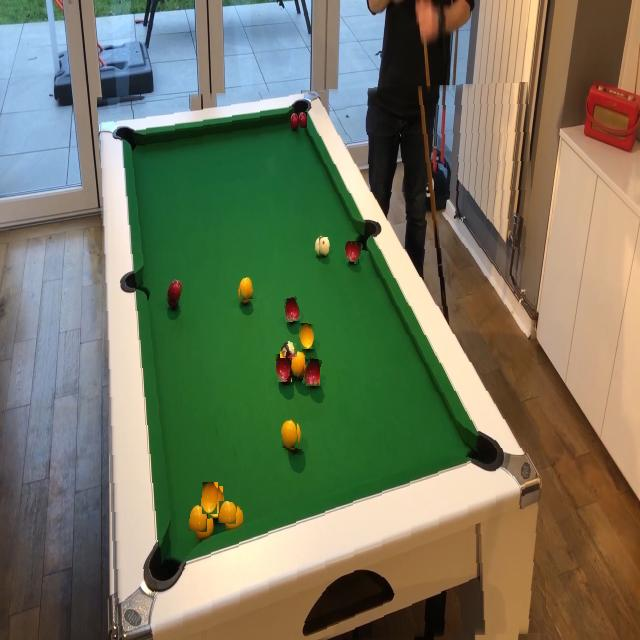Ball: (202, 482, 218, 514), (189, 506, 208, 532), (282, 419, 298, 448), (304, 358, 320, 385), (290, 352, 306, 378), (167, 278, 183, 303), (219, 502, 237, 524), (276, 354, 291, 380), (285, 296, 300, 321), (300, 323, 314, 348), (240, 278, 254, 300), (348, 242, 362, 264), (280, 341, 297, 359), (319, 237, 330, 257), (298, 112, 307, 128)
Billiard table: (101, 85, 541, 640)
